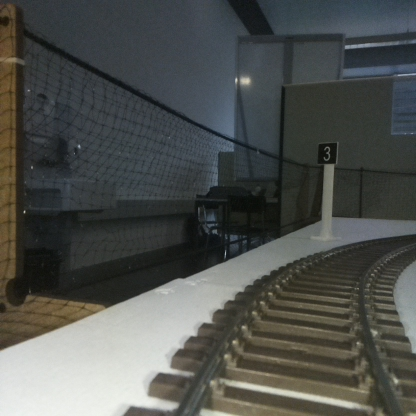black-info-3: (318, 142, 337, 238)
